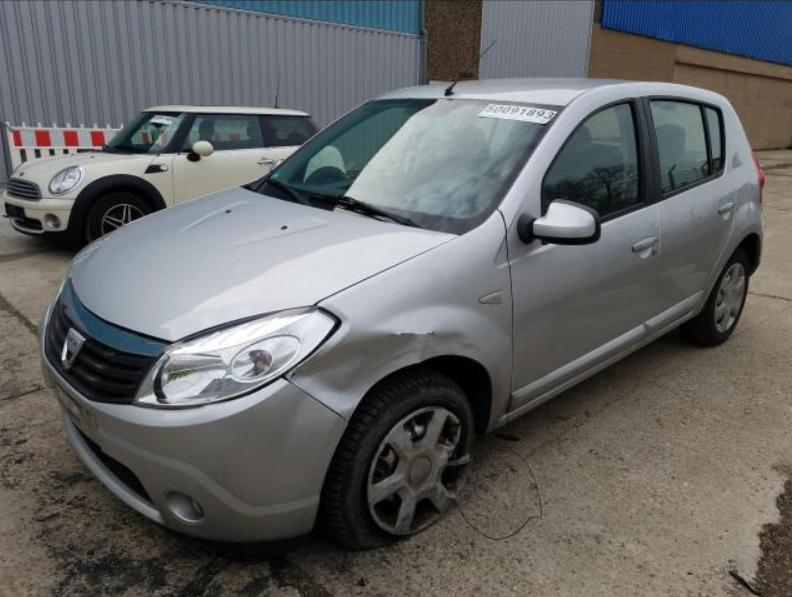Back-door: (635, 83, 738, 329)
Back-wheel: (682, 248, 750, 345)
Back-window: (649, 100, 722, 194)
Fender: (284, 210, 514, 436)
Front-bumper: (41, 353, 348, 541)
Front-door: (496, 82, 662, 410)
Front-wheel: (316, 364, 476, 548)
Front-window: (541, 99, 641, 217)
Grille: (43, 278, 169, 406)
Headlight: (133, 304, 341, 410), (68, 228, 120, 270)
Hood: (69, 185, 462, 342)
Mirror: (517, 199, 601, 245), (268, 158, 286, 173)
Quarter-panel: (731, 159, 763, 269)
Rocker-panel: (509, 230, 739, 423)
Roof: (373, 77, 670, 107)
Tail-light: (752, 150, 765, 190)
Windshield: (245, 98, 565, 234)
